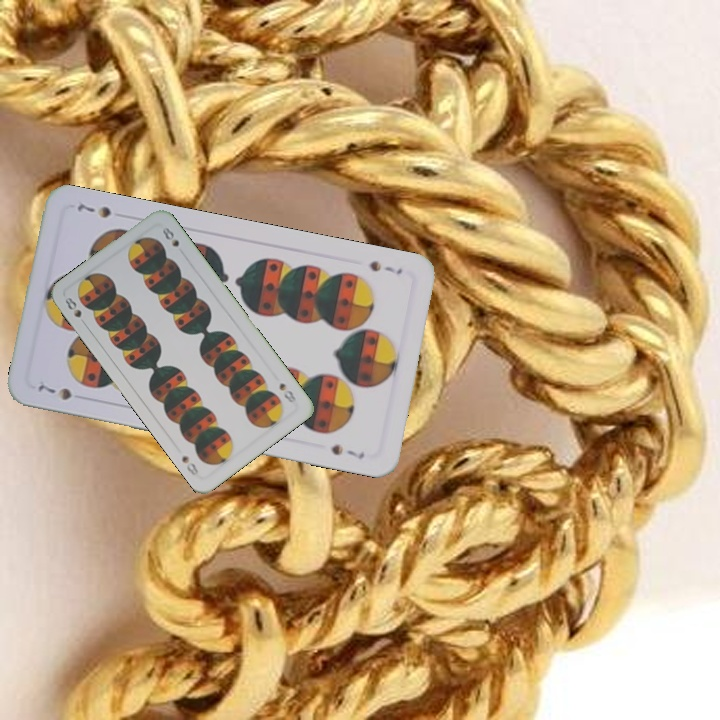S7: (34, 380, 75, 403), (365, 256, 405, 277)
S8: (275, 378, 299, 405), (61, 293, 84, 320)
